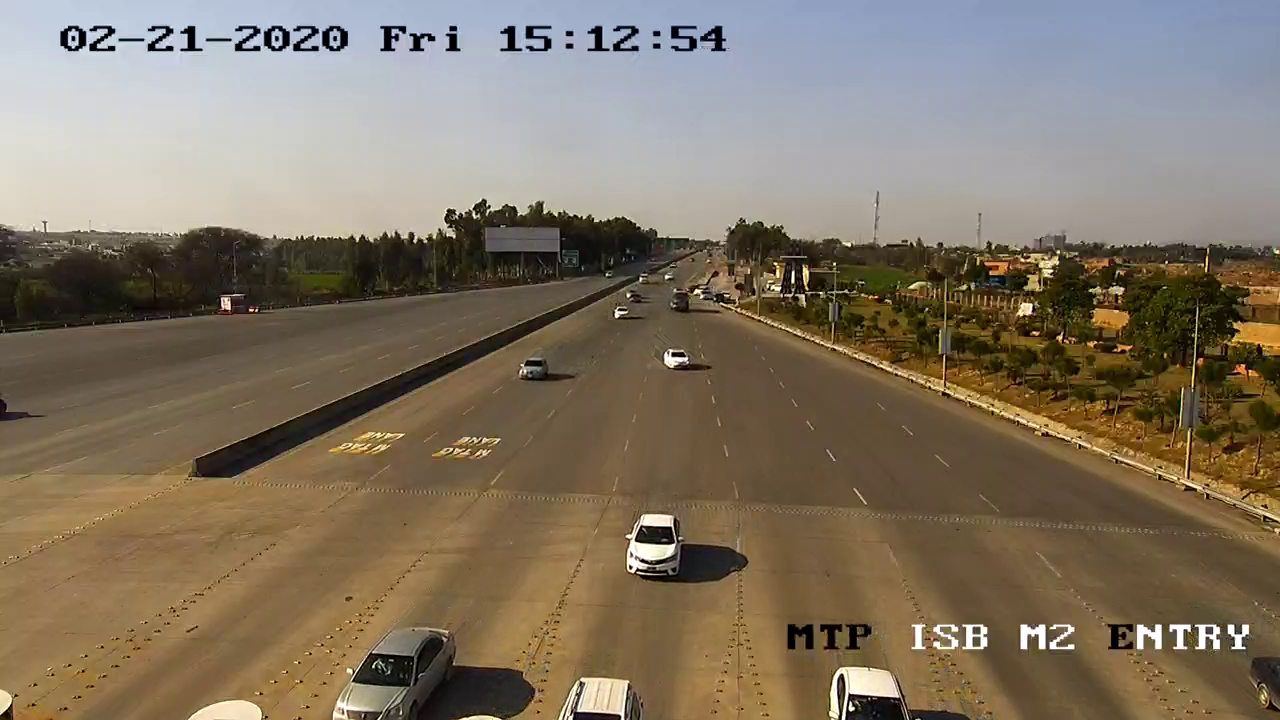f1: (331, 619, 463, 719), (619, 507, 695, 584)
